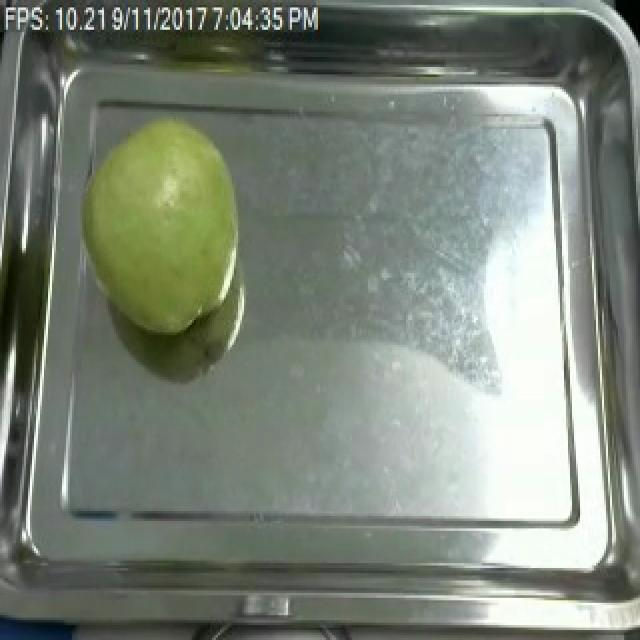Fruit: (66, 109, 252, 345)
